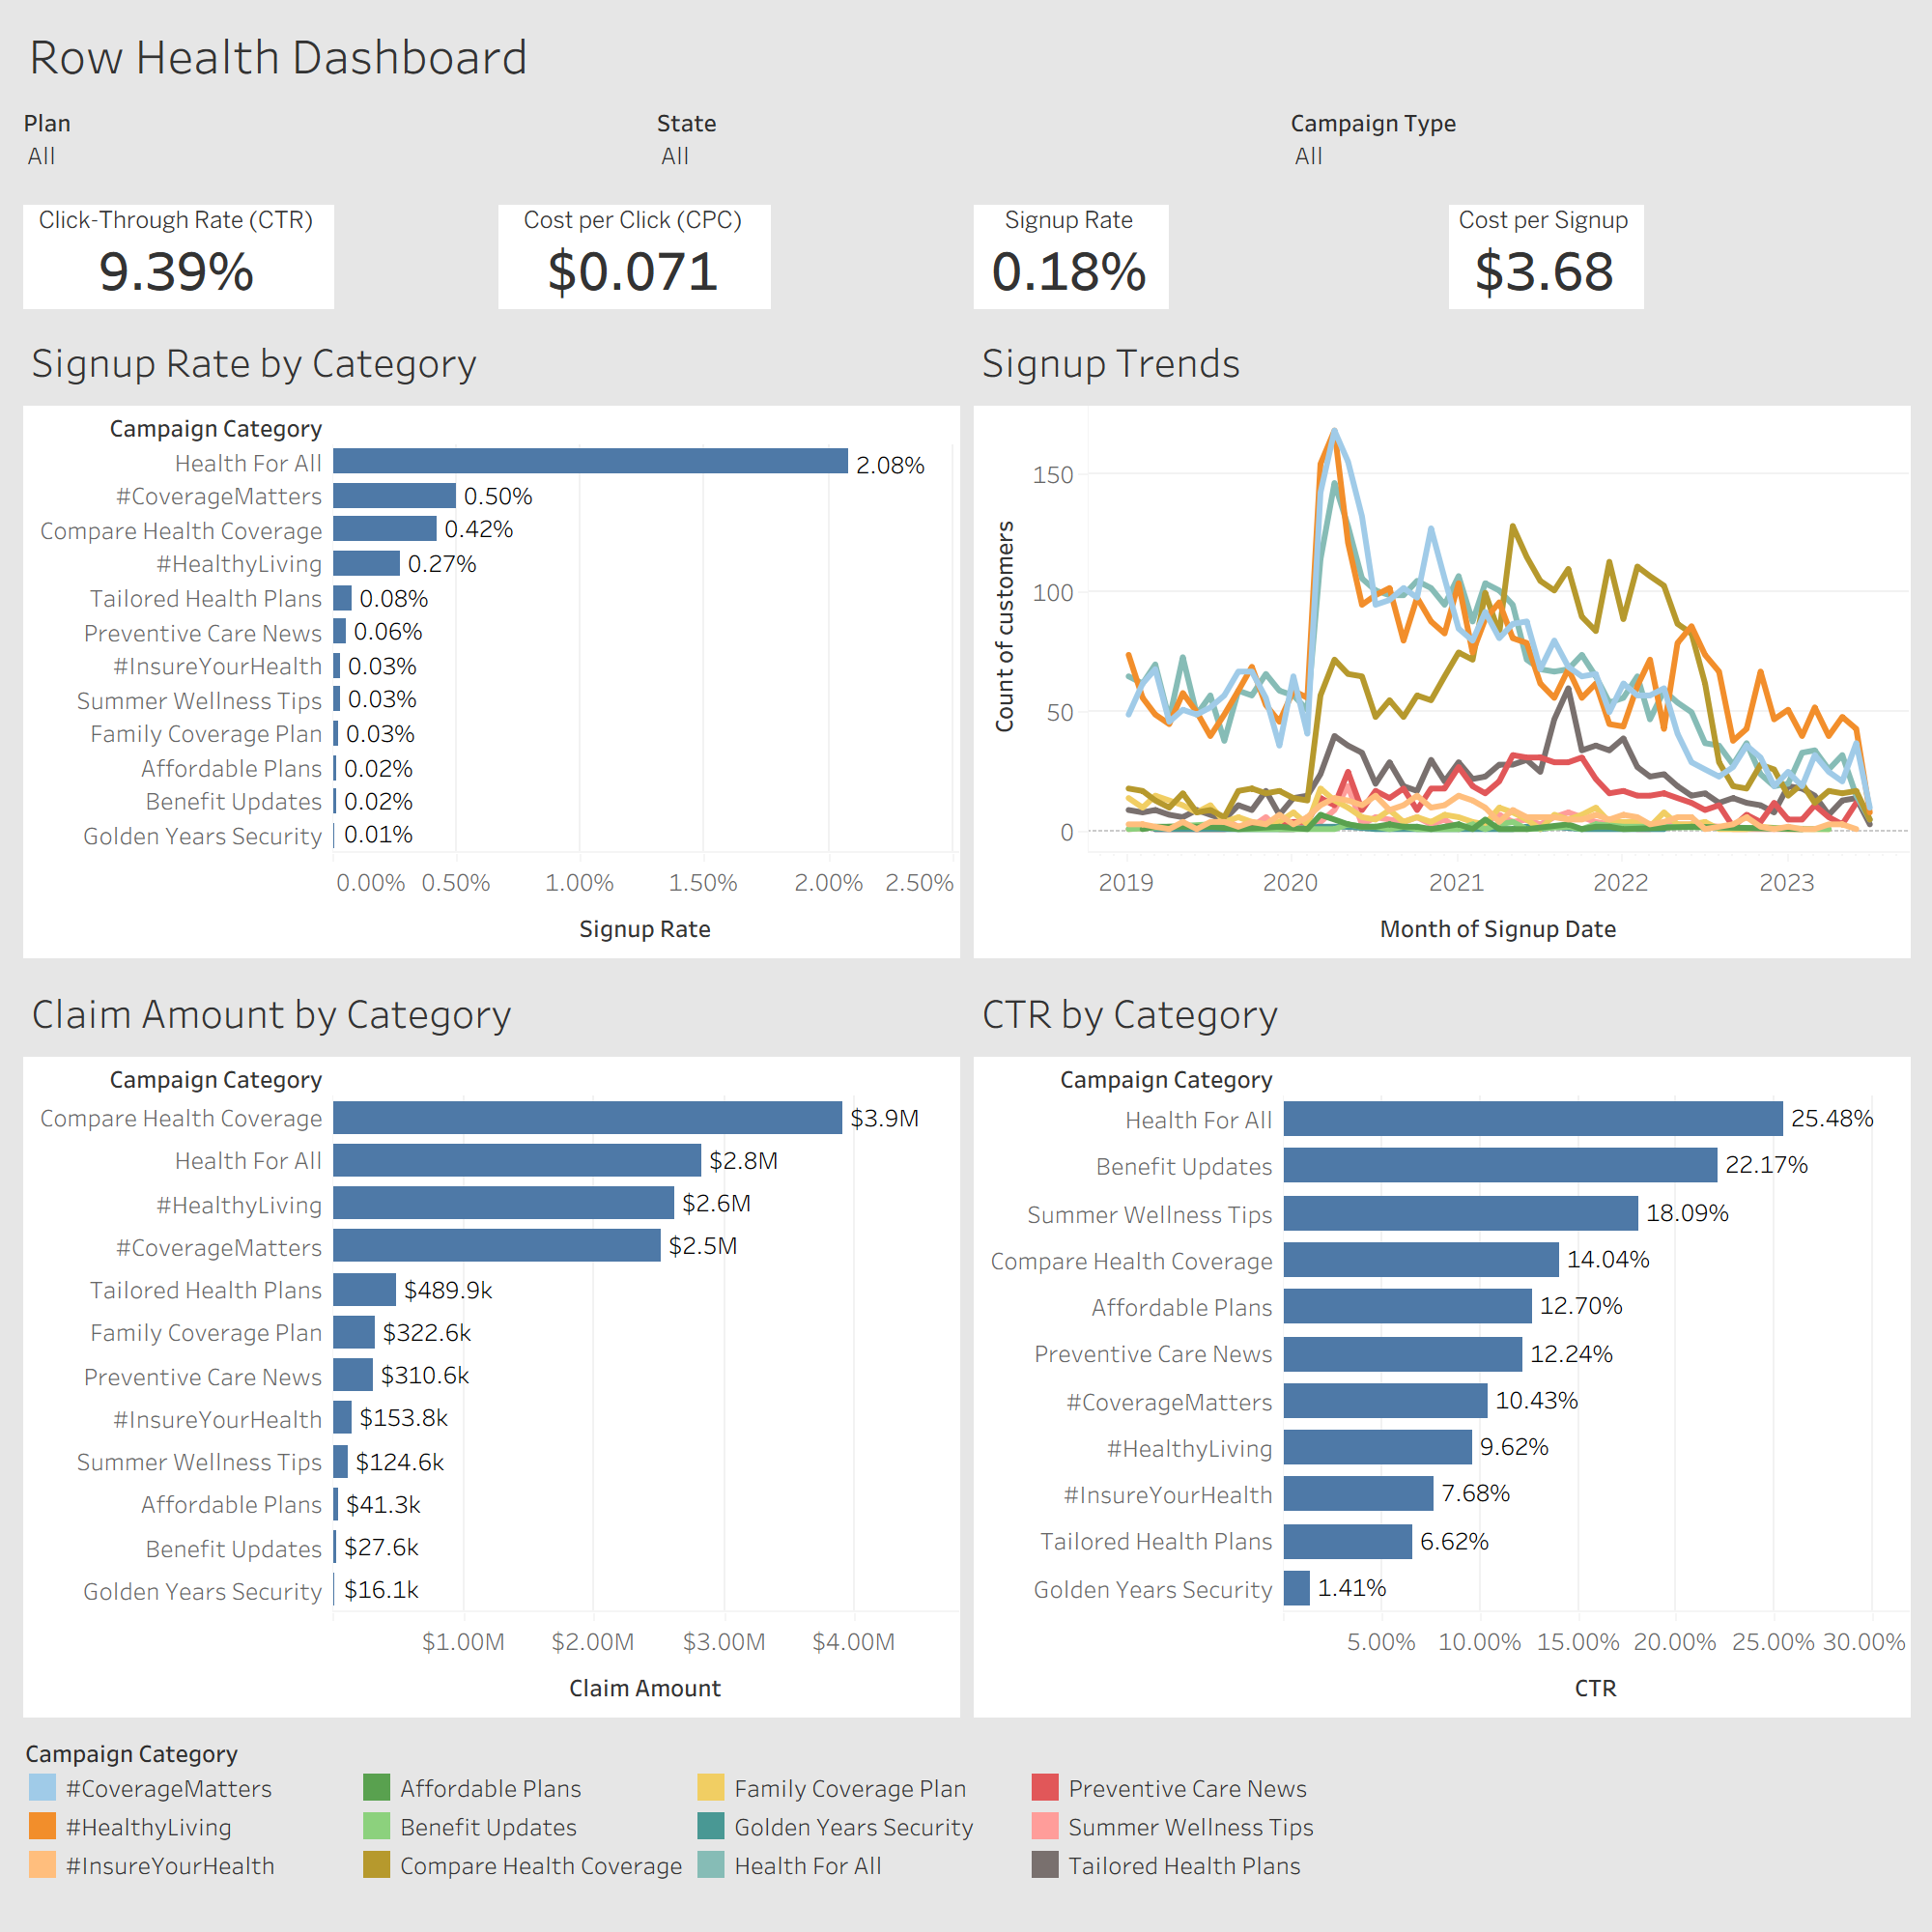

Layout of this report page (visuals, bound fields, positions):
{"tool":"tableau","page":{"name":"Row Health Dashboard","canvas":[1000,1000],"ordinal":0},"visuals":[{"type":"title","box":[8,8,984,42]},{"type":"filter","title":"Signup Trends","param":"[federated.1npgeub0zh4g2715ftyex0i2na20].[none:plan:nk]","box":[8,50,328,52]},{"type":"filter","title":"Signup Trends","param":"[federated.1npgeub0zh4g2715ftyex0i2na20].[none:state:nk]","box":[336,50,328,52]},{"type":"filter","title":"Signup Trends","param":"[federated.1npgeub0zh4g2715ftyex0i2na20].[none:campaign_type:nk]","box":[664,50,328,52]},{"type":"worksheet","title":"KPI - CTR","mark":"Automatic","box":[8,102,246,61]},{"type":"worksheet","title":"KPI - CPC","mark":"Automatic","box":[254,102,246,61]},{"type":"worksheet","title":"KPI - Signup Rate","mark":"Automatic","box":[500,102,246,61]},{"type":"worksheet","title":"KPI - Cost per Signup","mark":"Automatic","box":[746,102,246,61]},{"type":"worksheet","title":"Signup Rate by Category","mark":"Automatic","rows":["campaign_category"],"cols":["Calculation_1376928443412482"],"box":[8,163,492,337]},{"type":"worksheet","title":"Signup Trends","mark":"Automatic","rows":["customers_AA0492917D1444B19EE6E2AE75A53DDB"],"cols":["signup_date"],"box":[500,163,492,337]},{"type":"worksheet","title":"Claim Amount by Category","mark":"Automatic","rows":["campaign_category"],"cols":["claim_amount"],"box":[8,500,492,393]},{"type":"worksheet","title":"CTR by Category","mark":"Automatic","rows":["campaign_category"],"cols":["Calculation_1376928441577472"],"box":[500,500,492,393]},{"type":"legend","title":"Signup Trends","param":"[federated.1npgeub0zh4g2715ftyex0i2na20].[none:campaign_category:nk]","box":[8,893,984,99]}]}

Visuals, with their boxes in screenshot pixels (x1, y1, x2, y2), scaled from the page's 1000x1000 canvas onto the 1932x1932 screenshot:
title: 15,15,1917,97
"Signup Trends" filter: 15,97,649,197
"Signup Trends" filter: 649,97,1283,197
"Signup Trends" filter: 1283,97,1917,197
"KPI - CTR" worksheet: 15,197,491,315
"KPI - CPC" worksheet: 491,197,966,315
"KPI - Signup Rate" worksheet: 966,197,1441,315
"KPI - Cost per Signup" worksheet: 1441,197,1917,315
"Signup Rate by Category" worksheet: 15,315,966,966
"Signup Trends" worksheet: 966,315,1917,966
"Claim Amount by Category" worksheet: 15,966,966,1725
"CTR by Category" worksheet: 966,966,1917,1725
"Signup Trends" legend: 15,1725,1917,1917
